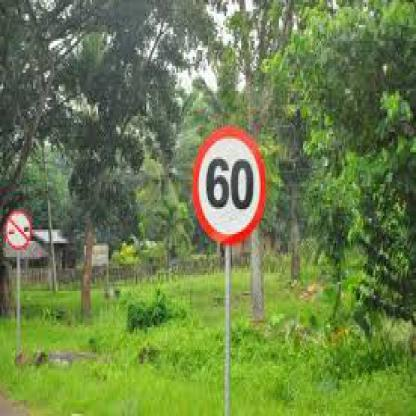Speed Limit 60: (194, 127, 266, 242)
